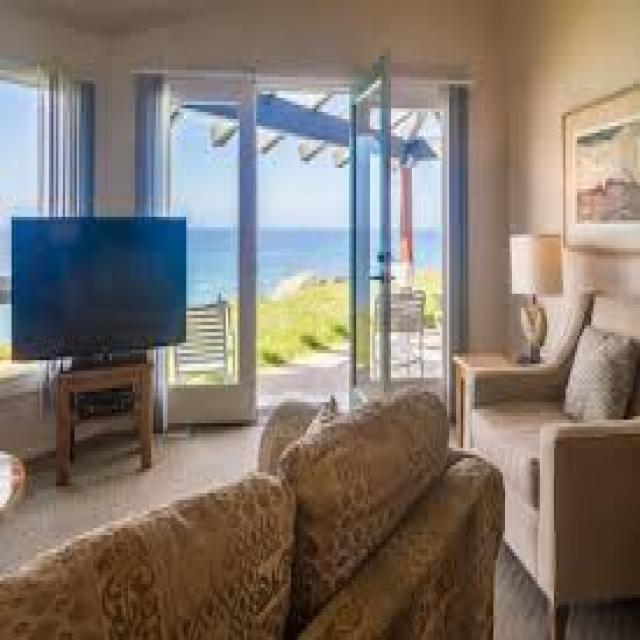Sofa: (0, 394, 499, 640), (478, 293, 640, 636)
tv: (12, 217, 190, 361)
window: (162, 73, 454, 400)
